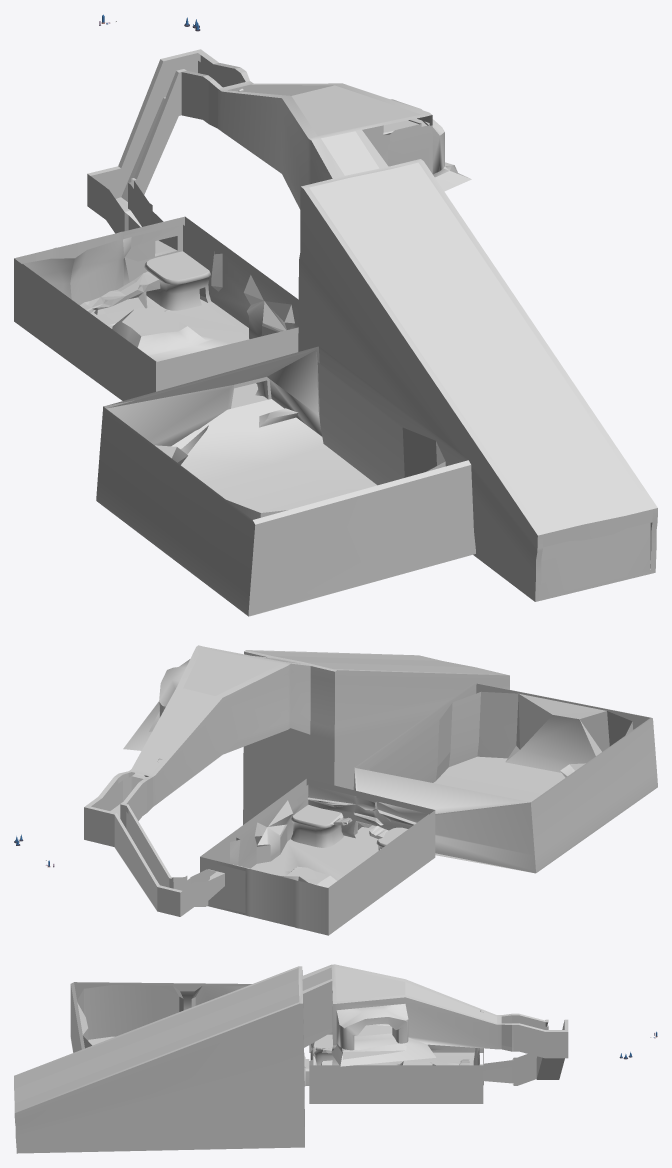
Rendered from Caverne_dontuse.fbx.
3 renders of one model, top to bottom at view 1: azimuth 30°, elevation 25°; view 2: azimuth 150°, elevation 25°; view 3: azimuth 270°, elevation 25°, orthographic. The views are drawn at different scales.
Parts seen in each view (by area): view 1: Main_room, Roof_low_room, Y_room, middle, Y_room_roof, Platform; view 2: Main_room, Y_room, middle, Y_room_roof, Roof_low_room, Platform; view 3: Y_room, Main_room, Roof_low_room, middle, Y_room_roof, Platform.
Boxes of the visible parts, left/top/right/bottom form: Main_room: left=14, top=216, right=475, bottom=616; Roof_low_room: left=309, top=162, right=652, bottom=547; Y_room: left=218, top=81, right=657, bottom=601; middle: left=87, top=49, right=249, bottom=253; Y_room_roof: left=228, top=84, right=420, bottom=175; Platform: left=80, top=251, right=256, bottom=383; Main_room: left=200, top=683, right=657, bottom=935; Y_room: left=123, top=645, right=509, bottom=824; middle: left=84, top=771, right=224, bottom=916; Y_room_roof: left=135, top=648, right=299, bottom=776; Roof_low_room: left=251, top=651, right=505, bottom=674; Platform: left=210, top=804, right=407, bottom=879; Y_room: left=14, top=964, right=501, bottom=1153; Main_room: left=70, top=982, right=483, bottom=1103; Roof_low_room: left=14, top=968, right=299, bottom=1111; middle: left=483, top=1013, right=568, bottom=1085; Y_room_roof: left=302, top=967, right=496, bottom=1023; Platform: left=310, top=1034, right=469, bottom=1065.
Bounding box in the file's own units: 6514 × 3728 × 13362.
